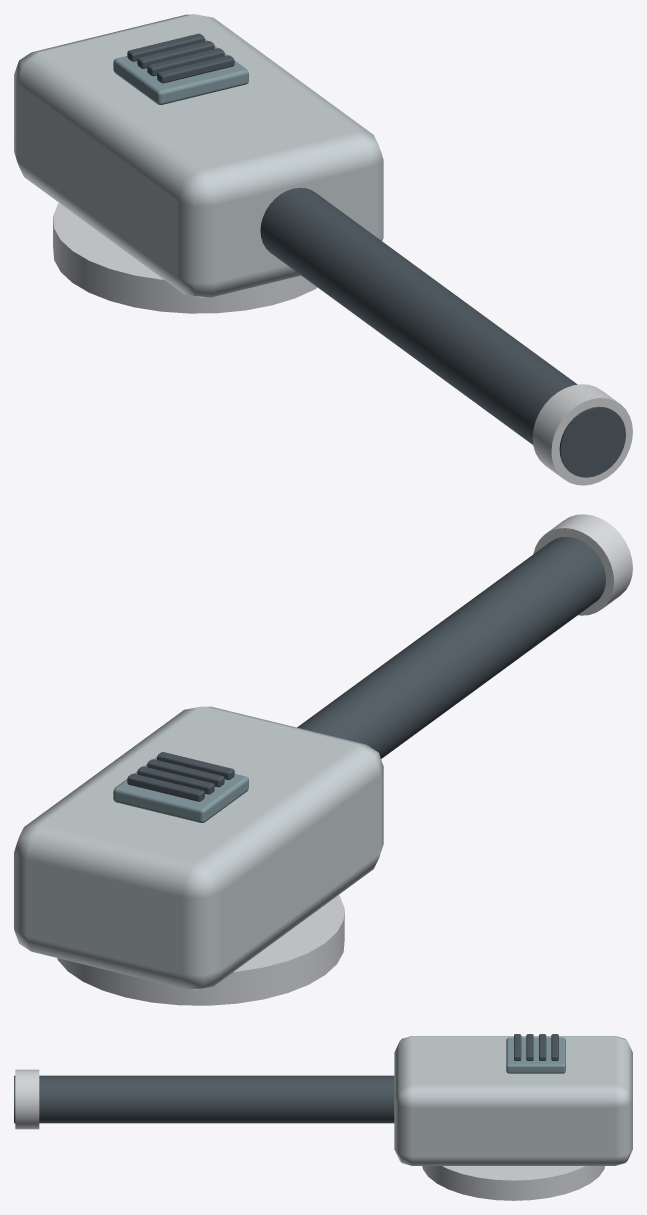
Rendered from turret-spinal.glb.
The picture shows the model from 3 angles, top to bottom: view 1: azimuth 30°, elevation 25°; view 2: azimuth 150°, elevation 25°; view 3: azimuth 270°, elevation 25°; orthographic projection. The views are drawn at different scales.
Visible parts, largest first — view 1: spinal-turret; view 2: spinal-turret; view 3: spinal-turret.
Boxes of the visible parts, x1=… form: spinal-turret: x1=14, y1=14, x2=632, y2=485; spinal-turret: x1=14, y1=514, x2=632, y2=1005; spinal-turret: x1=14, y1=1034, x2=632, y2=1200.
Bounding box in the file's own units: 1.24 × 0.8649 × 4.15.
